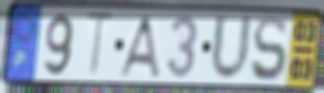3: (165, 14, 199, 82)
9: (42, 11, 75, 78)
A: (115, 13, 163, 79)
S: (249, 14, 288, 84)
T: (83, 10, 117, 81)
U: (208, 12, 255, 84)
